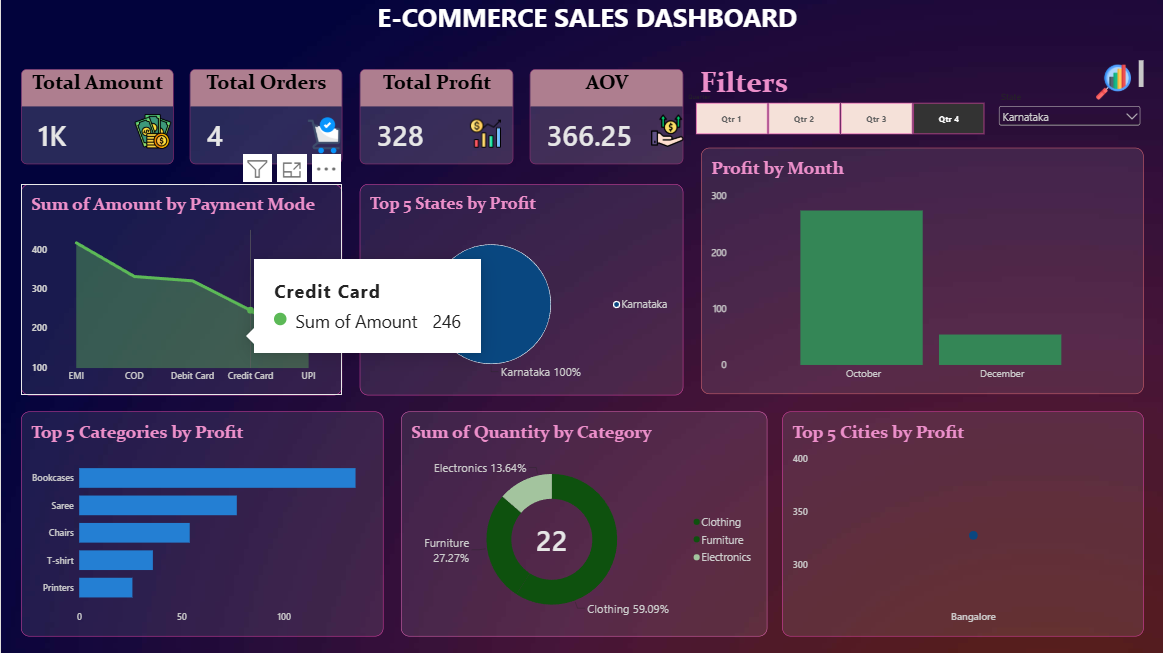

The page's visual inventory and layout, read from the dashboard file:
{"tool":"powerbi","page":{"name":"Page 1","canvas":[1920,1080],"ordinal":0},"visuals":[{"type":"textbox","box":[10.3,0,1910.1,115.3],"z":0},{"type":"columnChart","title":"Profit by Month","fields":{"Category":["Orders.Order Date.Variation.Date Hierarchy.Month"],"Y":["Sum(Details.Profit)"]},"box":[1152.7,244.9,728.6,405.5],"z":1000},{"type":"donutChart","fields":{"Category":["Details.Category"],"Y":["Sum(Details.Quantity)"]},"box":[658.7,679.2,603.1,370.5],"z":3000},{"type":"pieChart","title":"Top 5 States by Profit","fields":{"Category":["Orders.State"],"Y":["Sum(Details.Profit)"]},"box":[590.7,304.6,533.1,347.9],"z":4000},{"type":"cardVisual","title":"Total Orders","fields":{"Data":["CountNonNull(Orders.Order ID)"]},"box":[310.8,115.3,251.1,156.4],"z":4002},{"type":"cardVisual","title":"Total Amount","fields":{"Data":["Sum(Details.Amount)"]},"box":[32.9,115.3,251.1,156.4],"z":4003},{"type":"cardVisual","title":"Total Profit","fields":{"Data":["Sum(Details.Profit)"]},"box":[590.7,115.3,253.2,156.4],"z":4004},{"type":"cardVisual","title":"AOV","fields":{"Data":["Details.AOV"]},"box":[870.7,115.3,253.2,156.4],"z":4005},{"type":"areaChart","title":"Sum of Amount by Payment Mode","fields":{"Category":["Details.PaymentMode"],"Y":["Sum(Details.Amount)"]},"box":[32.9,304.6,529,347.9],"z":4006},{"type":"lineChart","title":"Top 5 Cities by Profit","fields":{"Category":["Orders.City"],"Y":["Sum(Details.Profit)"]},"box":[1286.5,679.2,594.9,370.5],"z":4007},{"type":"barChart","title":"Top 5 Categories by Profit","fields":{"Category":["Details.Sub-Category"],"Y":["Sum(Details.Profit)"]},"box":[32.9,679.2,596.9,370.5],"z":4008},{"type":"slicer","fields":{"Values":["Orders.Order Date.Variation.Date Hierarchy.Quarter"]},"box":[1123.8,154.4,514.6,70],"z":4009},{"type":"textbox","box":[1123.8,100.9,757.5,53.5],"z":4011},{"type":"slicer","fields":{"Values":["Orders.State"]},"box":[1638.4,152.3,242.9,84.4],"z":4012},{"type":"image","box":[765.7,195.5,63.8,51.5],"z":4013},{"type":"image","box":[1070.3,185.2,53.5,63.8],"z":4014},{"type":"image","box":[502.2,185.2,59.7,78.2],"z":4015},{"type":"image","box":[1803.1,100.9,57.6,72],"z":4016},{"type":"image","box":[216.1,187.3,67.9,61.7],"z":4017}]}

Visuals, with their boxes in screenshot pixels (x1, y1, x2, y2), scaled from the page's 1920x1080 canvas onto the 1163x653 screenshot:
textbox: 6, 0, 1162, 70
"Profit by Month" columnChart: 698, 148, 1140, 393
donutChart - Details.Category x Sum(Details.Quantity): 399, 411, 764, 635
"Top 5 States by Profit" pieChart: 358, 184, 681, 395
"Total Orders" cardVisual: 188, 70, 340, 164
"Total Amount" cardVisual: 20, 70, 172, 164
"Total Profit" cardVisual: 358, 70, 511, 164
"AOV" cardVisual: 527, 70, 681, 164
"Sum of Amount by Payment Mode" areaChart: 20, 184, 340, 395
"Top 5 Cities by Profit" lineChart: 779, 411, 1140, 635
"Top 5 Categories by Profit" barChart: 20, 411, 381, 635
slicer - Orders.Order Date.Variation.Date Hierarchy.Quarter: 681, 93, 992, 136
textbox: 681, 61, 1140, 93
slicer - Orders.State: 992, 92, 1140, 143
image: 464, 118, 502, 149
image: 648, 112, 681, 151
image: 304, 112, 340, 159
image: 1092, 61, 1127, 105
image: 131, 113, 172, 151
